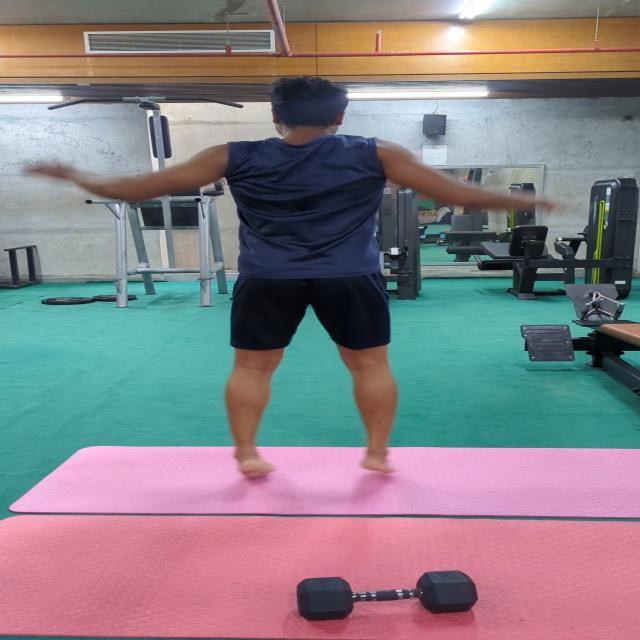Normal_JumpingJacks: (18, 80, 557, 493)
